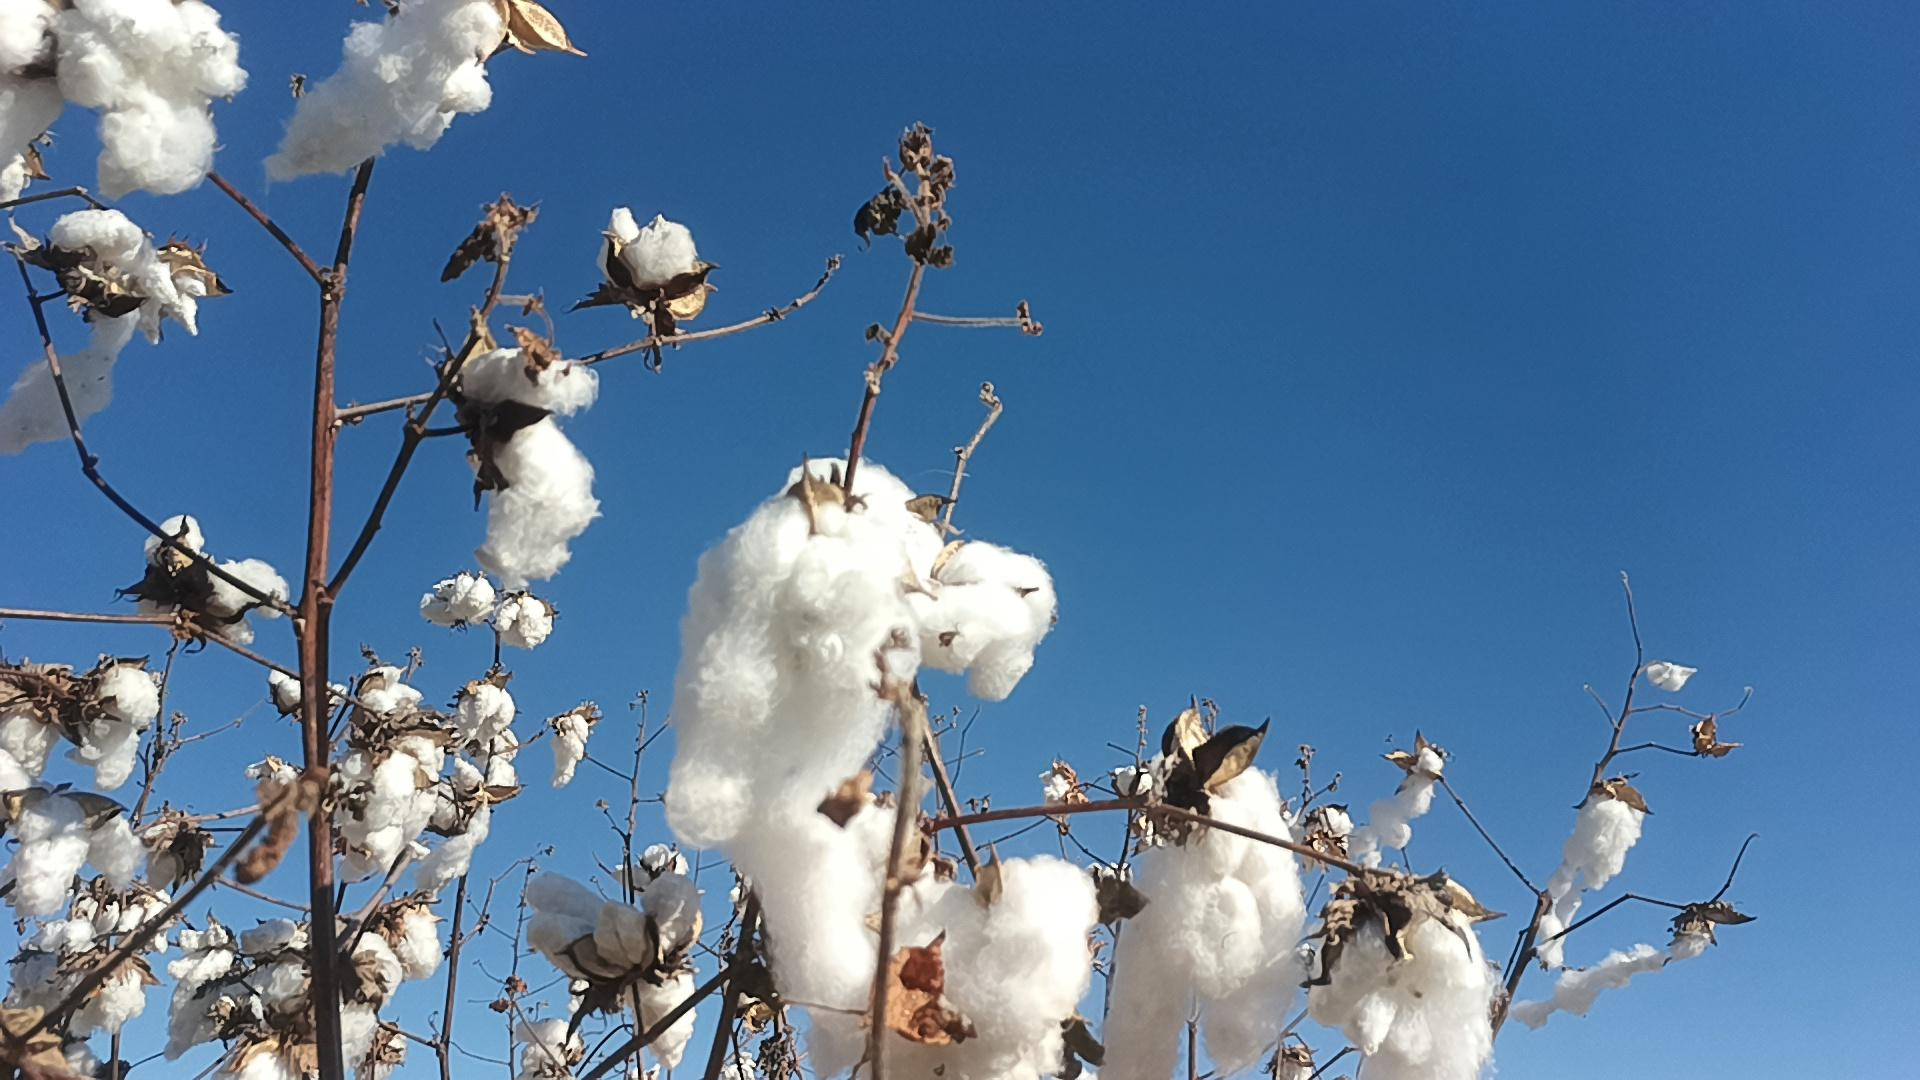cotton_ready: (663, 498, 926, 845), (1100, 764, 1311, 1080), (721, 806, 938, 1080), (0, 206, 208, 458), (0, 0, 251, 195), (256, 0, 508, 187), (1309, 876, 1498, 1080), (166, 923, 404, 1080), (524, 873, 705, 1071), (936, 858, 1098, 1068), (458, 347, 597, 585), (1510, 905, 1754, 1034), (902, 541, 1058, 707), (1535, 778, 1655, 968), (145, 518, 290, 657), (0, 663, 156, 790), (786, 460, 945, 582), (12, 789, 148, 920), (332, 736, 440, 878), (1350, 733, 1445, 861), (597, 206, 705, 313), (422, 756, 488, 882), (13, 920, 96, 1004), (59, 960, 146, 1036), (69, 889, 170, 945), (454, 670, 517, 750), (549, 702, 599, 790), (359, 665, 426, 727), (489, 589, 556, 651), (389, 903, 442, 980), (417, 576, 491, 626)
